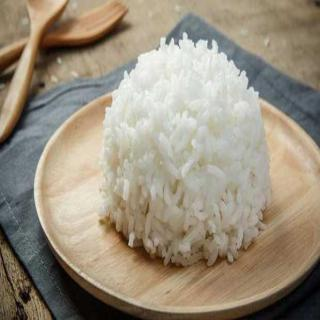Nasi: (95, 29, 273, 270)
